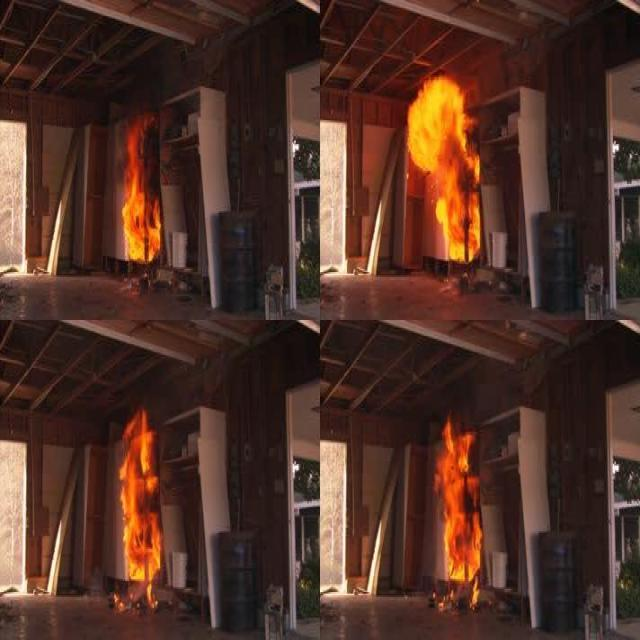Fire: (407, 70, 482, 268), (432, 413, 482, 611), (118, 408, 165, 611), (120, 108, 163, 266)
